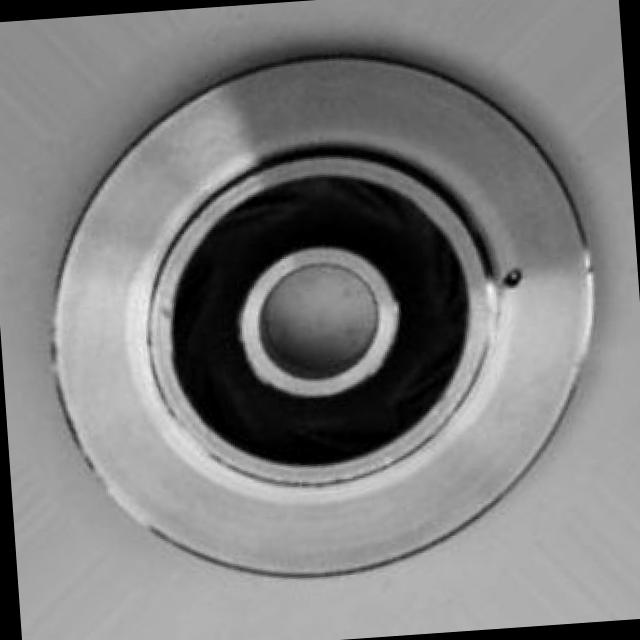Defect: (498, 262, 534, 289)
